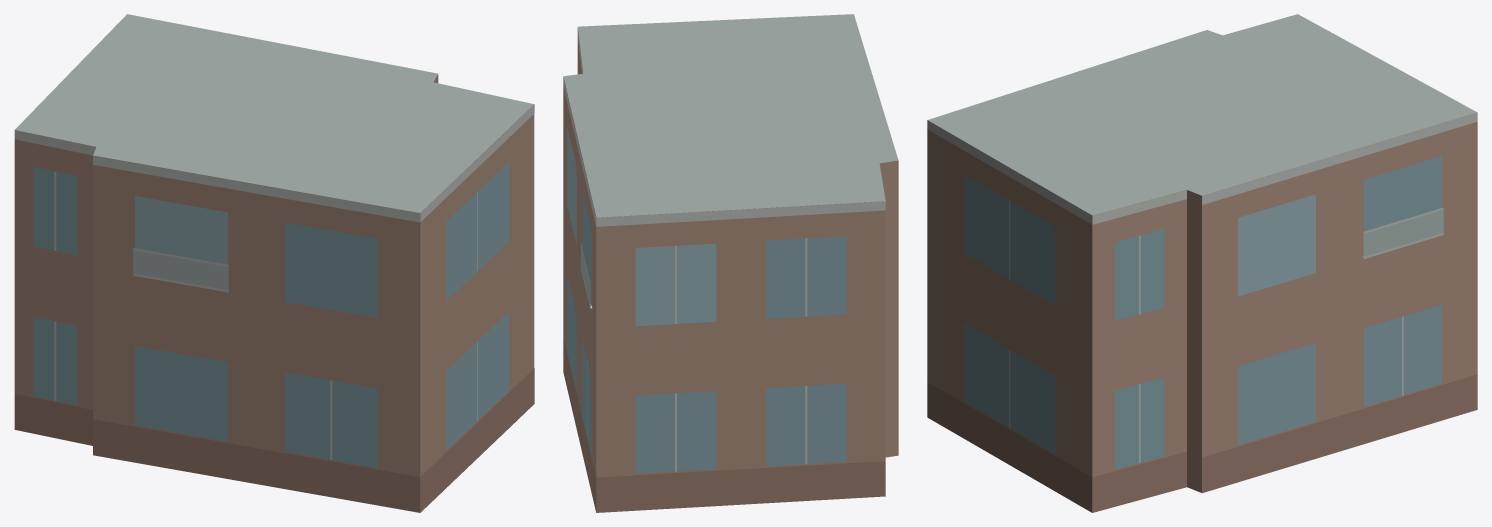
Rendered from survey-upis-32498231.glb.
The picture shows the model from 3 angles, left to right: view 1: azimuth 30°, elevation 25°; view 2: azimuth 150°, elevation 25°; view 3: azimuth 270°, elevation 25°; orthographic projection.
Parts seen in each view (by area): view 1: survey-upis-32498231.tmp; view 2: survey-upis-32498231.tmp; view 3: survey-upis-32498231.tmp.
Boxes of the visible parts, bbox=[...] form: survey-upis-32498231.tmp: bbox=[14, 14, 534, 512]; survey-upis-32498231.tmp: bbox=[563, 14, 898, 512]; survey-upis-32498231.tmp: bbox=[927, 14, 1477, 512].
Size of the model in its own units: 11.35 by 7.8 by 13.09.
